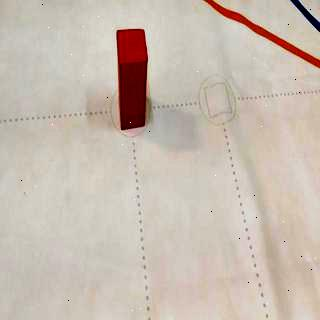redbox: (116, 28, 150, 131)
